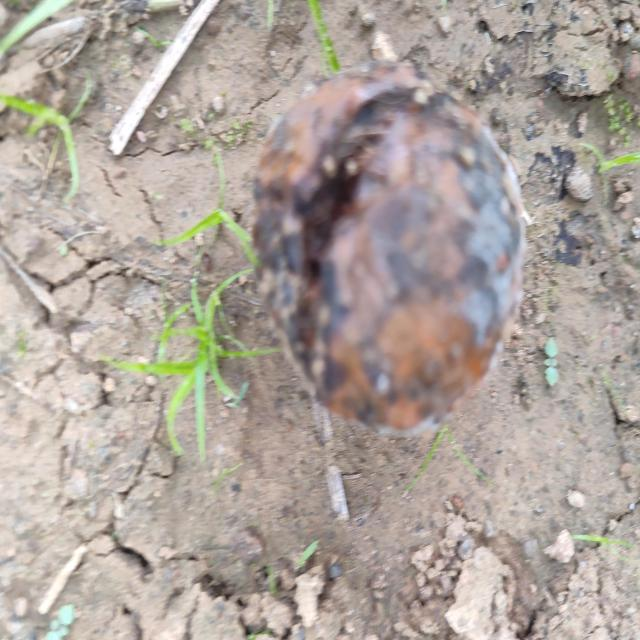damaged: (251, 63, 528, 435)
